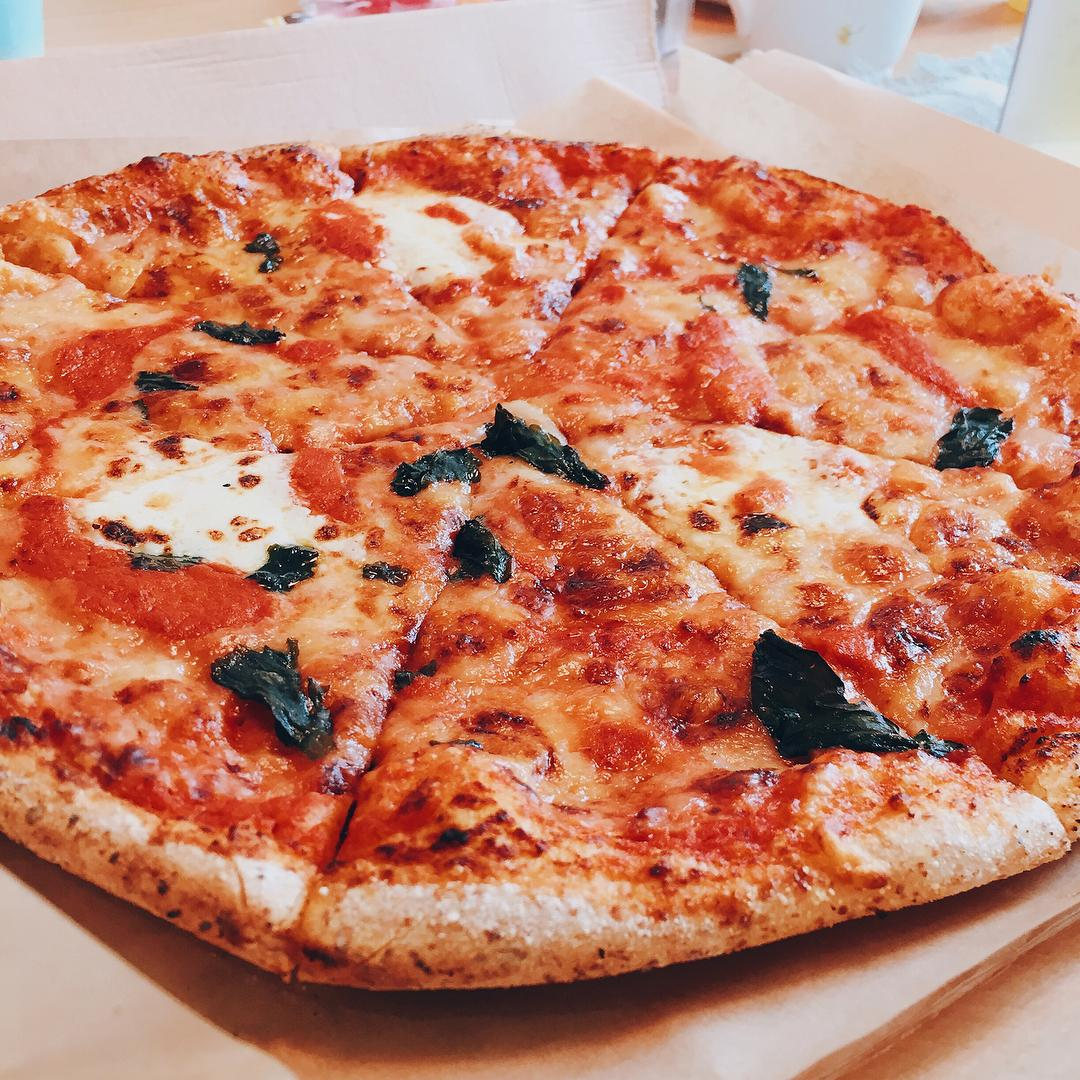Basil: (739, 618, 961, 766), (198, 629, 341, 758), (476, 400, 615, 491), (927, 393, 1016, 473), (434, 510, 515, 595), (179, 311, 295, 356), (393, 439, 484, 493), (245, 542, 323, 594), (119, 359, 198, 404), (726, 252, 778, 317), (236, 220, 292, 278), (110, 546, 209, 578), (353, 557, 409, 596)
Pizza: (0, 127, 1080, 998)
